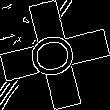O_E: (25, 28, 85, 82)
